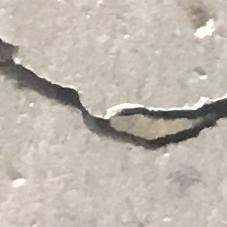Structural-Crack: (0, 29, 227, 155)
